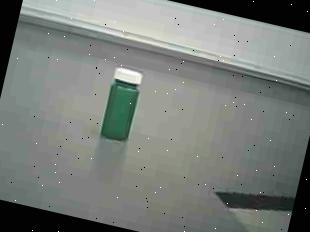Bottle C: (88, 56, 155, 153)
